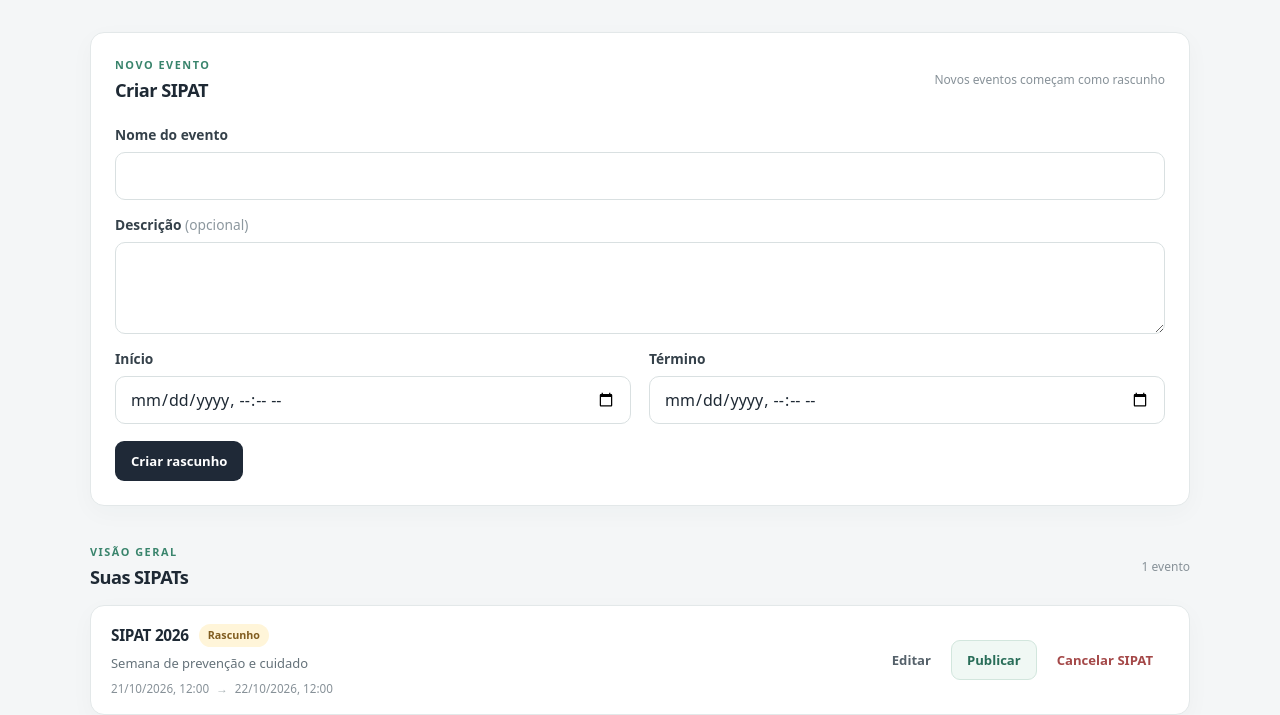
Test: SIPAT event administration › asks for confirmation before cancelling an event
(page scrolled)
What coordinates should you click on to do the following:
click the button "Cancelar SIPAT"
I would click on:
 (1105, 660)
Its box is 1041,640 -> 1169,680.
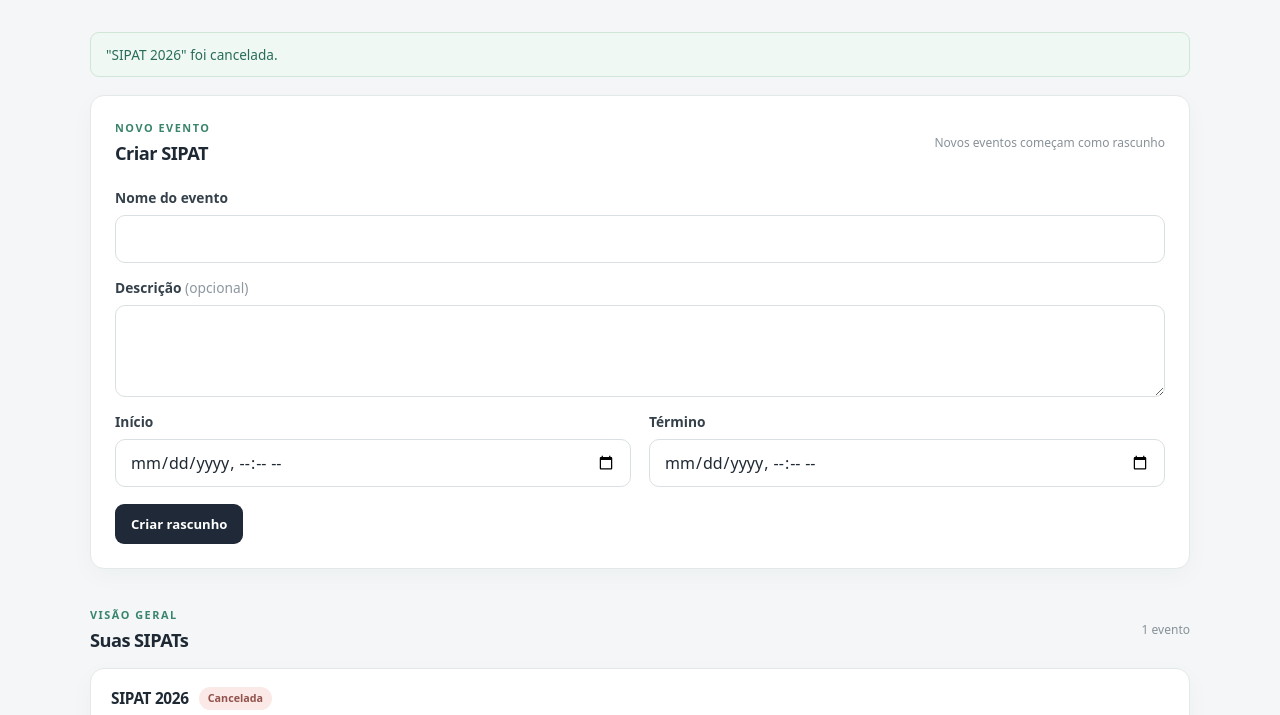
Expected: the text "Cancelada" is shown, 199,687 -> 272,710
